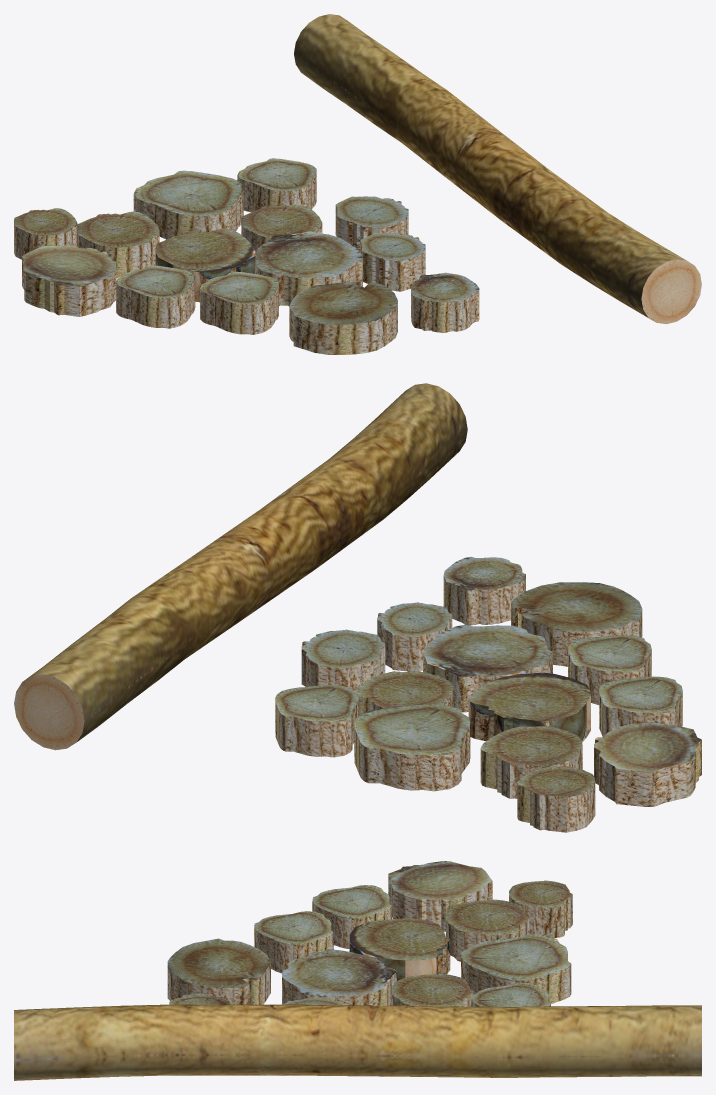
File: huangqi.FBX
3 renders of one model, top to bottom at view 1: azimuth 30°, elevation 25°; view 2: azimuth 150°, elevation 25°; view 3: azimuth 270°, elevation 25°, orthographic. The views are drawn at different scales.
Visible parts, largest first — view 1: Cylinder001, Line005, Line002, Line001, Line004, Line012, Line013, Line003, Line008, Line010, Line006, Line014 (+3 smaller); view 2: Cylinder001, Line001, Line002, Line005, Line004, Line003, Line006, Line008, Line010, Line009, Line011, Line012 (+3 smaller); view 3: Cylinder001, Line005, Line001, Line004, Line002, Line003, Line013, Line008, Line012, Line009, Line007, Line006 (+1 smaller).
Part boxes in pixels (x1,y1,x2,y2): Cylinder001: (294,14,701,324); Line005: (289,282,397,354); Line002: (22,245,116,316); Line001: (133,170,243,239); Line004: (255,231,362,306); Line012: (116,265,195,328); Line013: (200,271,278,334); Line003: (155,228,255,302); Line008: (76,211,159,277); Line010: (411,272,479,332); Line006: (237,158,316,212); Line014: (360,233,425,291); Cylinder001: (14,383,467,750); Line001: (354,704,470,791); Line002: (594,722,701,806); Line005: (511,582,642,666); Line004: (423,624,552,712); Line003: (468,672,590,742); Line006: (275,685,358,757); Line008: (480,726,582,798); Line010: (443,557,525,625); Line009: (517,766,595,832); Line011: (301,629,385,691); Line012: (599,676,682,737); Cylinder001: (14,1004,701,1080); Line005: (167,938,270,1004); Line001: (461,934,571,1003); Line004: (282,949,396,1005); Line002: (388,861,492,931); Line003: (349,918,450,980); Line013: (254,911,333,973); Line008: (446,899,529,961); Line012: (312,885,391,948); Line009: (509,880,572,937); Line007: (392,973,473,1006); Line006: (471,983,550,1006).
Bounding box in the file's own units: 42.45 × 8.02 × 53.6.
